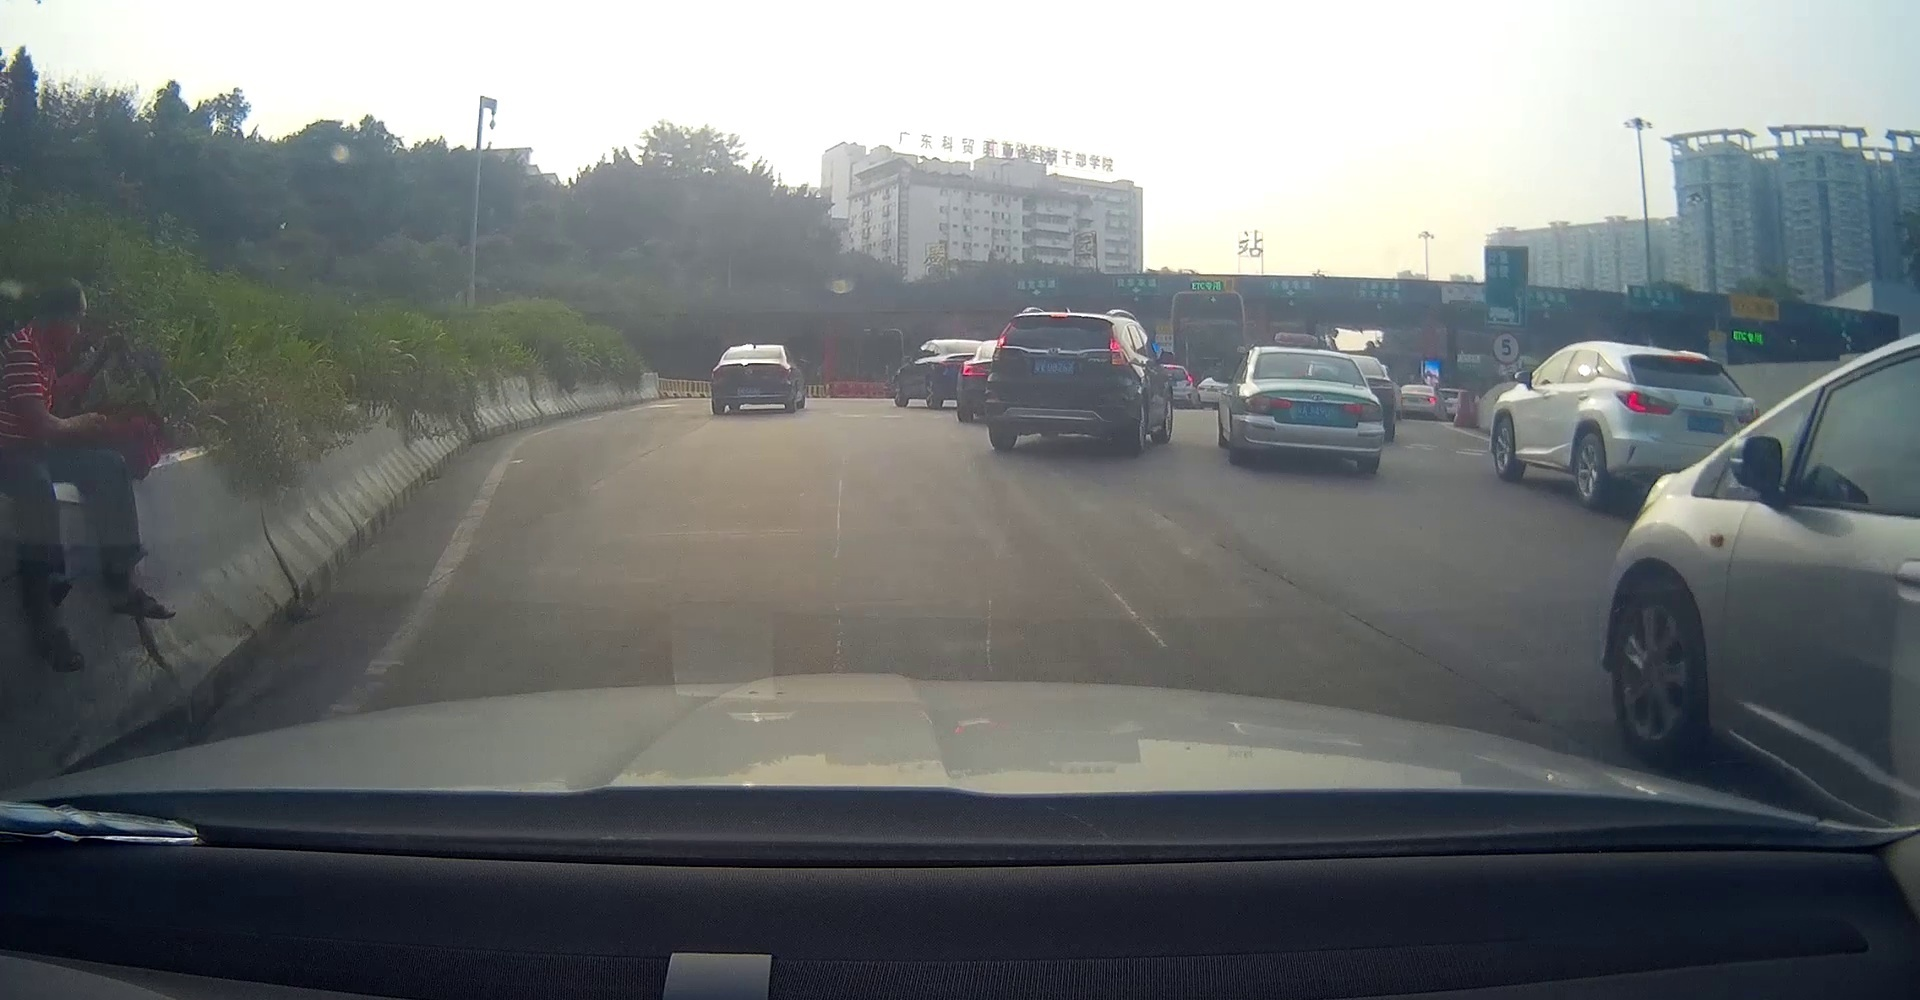L_light: (1244, 393, 1291, 412), (990, 332, 1007, 360), (712, 364, 725, 378)
R_light: (1110, 336, 1128, 365), (1343, 401, 1380, 415), (775, 363, 790, 377)
T_light: (1049, 312, 1068, 317), (1297, 353, 1317, 357), (747, 348, 759, 352)
day-brake: (983, 310, 1133, 447)
day-no: (1239, 346, 1385, 475), (709, 344, 791, 412)
